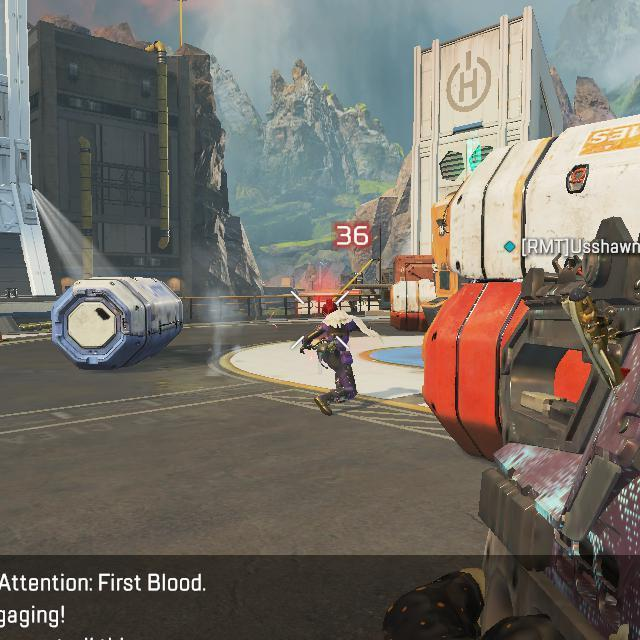avatar: (312, 297, 359, 418)
